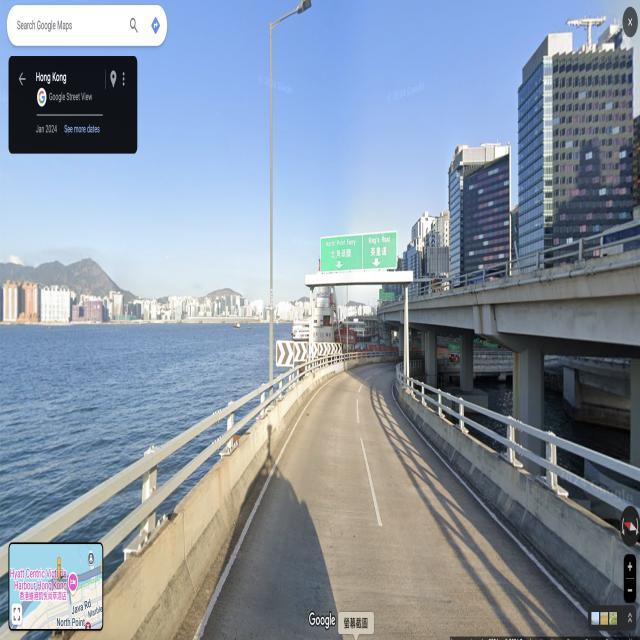Direction-Sign: (321, 232, 397, 272)
